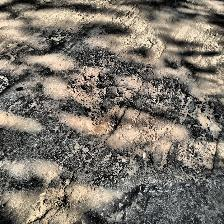pothole: (23, 188, 69, 222), (65, 73, 109, 105), (83, 106, 119, 136)
